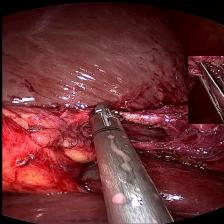Clipper: (82, 96, 130, 139)
Grasper: (187, 56, 224, 124)
